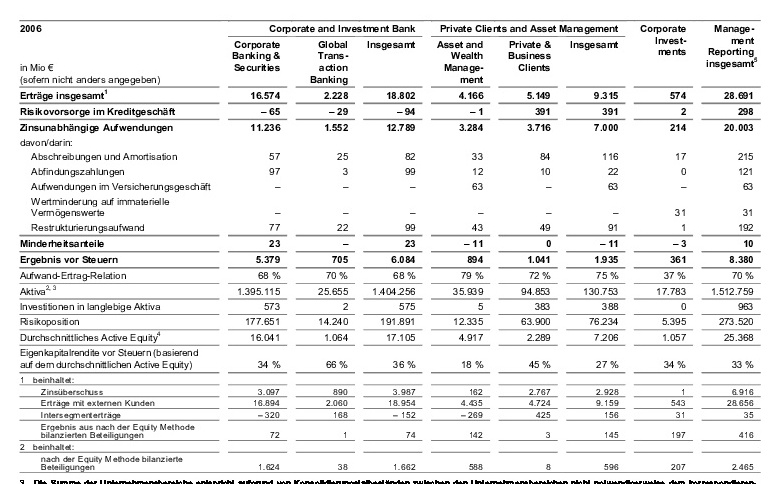table: (0, 0, 781, 484)
